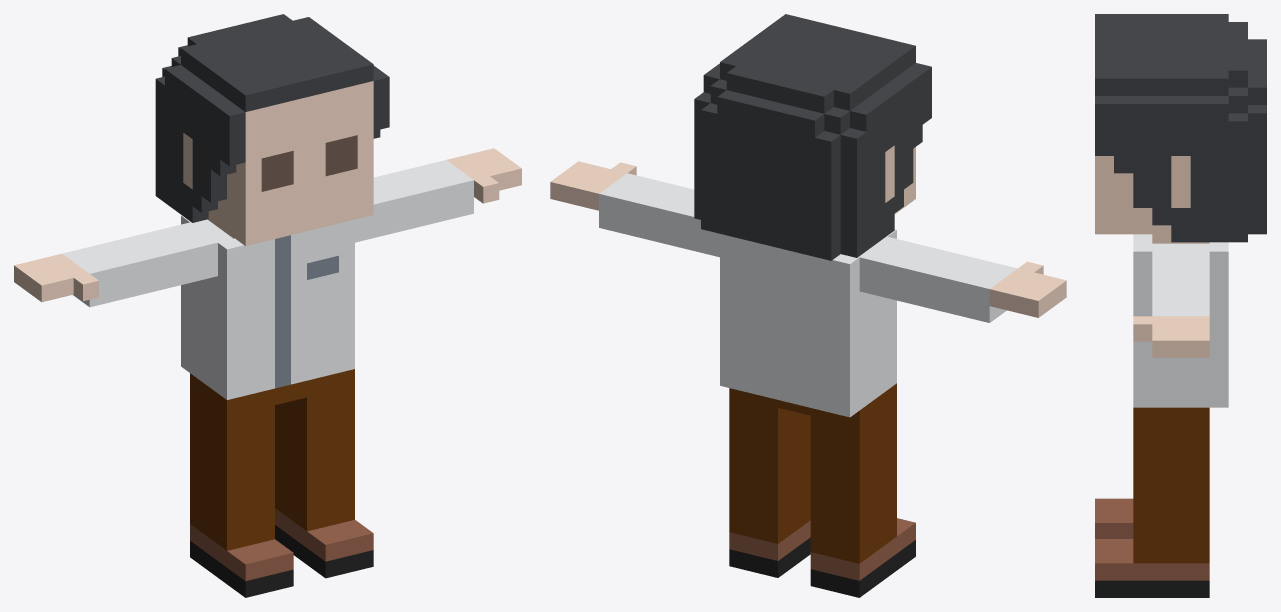
Rendered from student-10.obj.
The picture shows the model from 3 angles, left to right: view 1: azimuth 30°, elevation 25°; view 2: azimuth 150°, elevation 25°; view 3: azimuth 270°, elevation 25°; orthographic projection. The views are drawn at different scales.
Bounding box in the file's own units: 3 × 3 × 0.9.
Materials: 1 (1 with a texture image).
